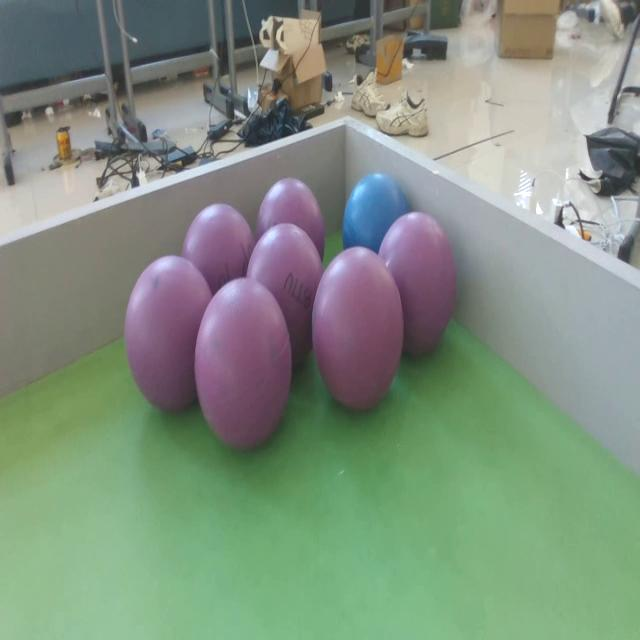blue: (344, 172, 406, 255)
invalid: (194, 282, 294, 450), (315, 245, 403, 408), (122, 258, 202, 413), (377, 208, 458, 359), (247, 222, 323, 364), (254, 173, 327, 270), (182, 208, 255, 292)
